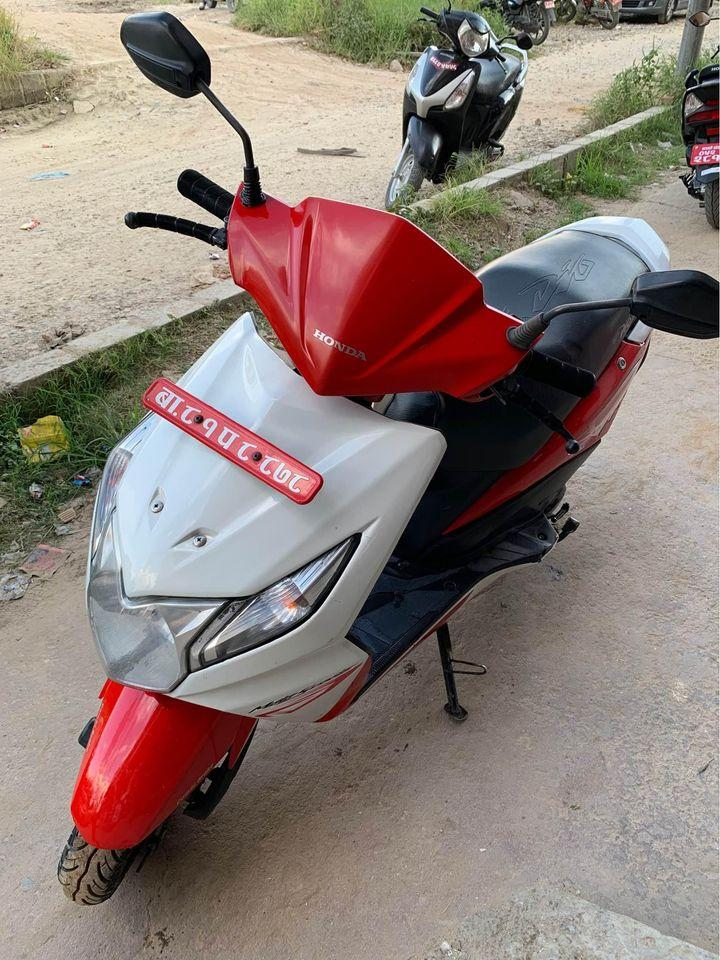scooter: (44, 9, 717, 911), (377, 3, 547, 203)
